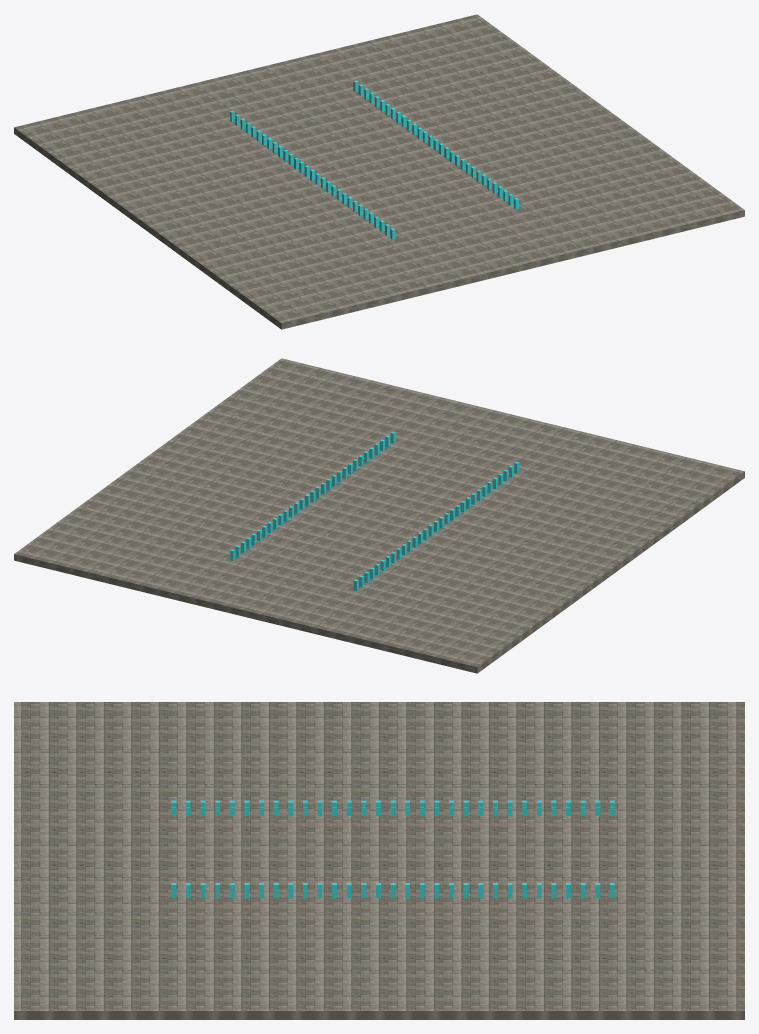
The model's file is cena.glb.
3 views of the same model, one above another, from view 1: azimuth 30°, elevation 25°; view 2: azimuth 150°, elevation 25°; view 3: azimuth 270°, elevation 25° (orthographic). The views are drawn at different scales.
Parts seen in each view (by area): view 1: plano; view 2: plano; view 3: plano.
Part boxes in pixels (x1,y1,x2,y2): plano: (14,14,744,329); plano: (14,358,744,673); plano: (14,702,744,1019).
Bounding box in the file's own units: 75 × 2.54 × 75.
Materials: 2 (1 with a texture image).
